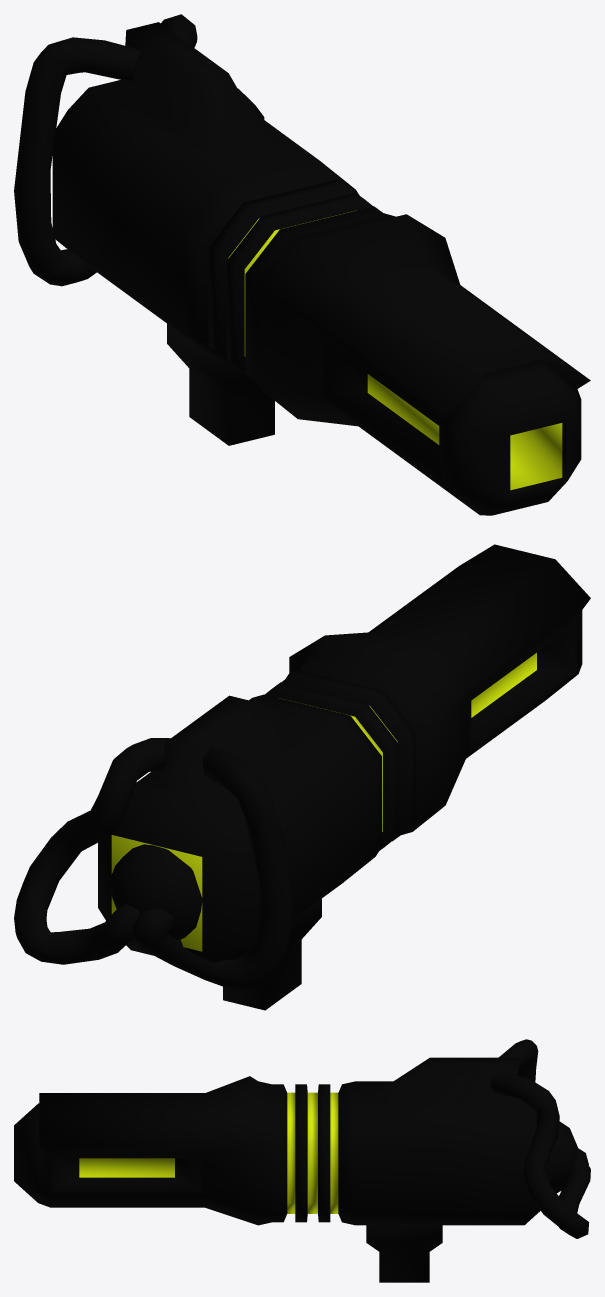
File: PulseCanon.fbx
3 renders of one model, top to bottom at view 1: azimuth 30°, elevation 25°; view 2: azimuth 150°, elevation 25°; view 3: azimuth 270°, elevation 25°, orthographic. The views are drawn at different scales.
Parts seen in each view (by area): view 1: Pulse Canon; view 2: Pulse Canon; view 3: Pulse Canon.
Boxes of the visible parts, x1=… form: Pulse Canon: x1=14, y1=14, x2=590, y2=515; Pulse Canon: x1=14, y1=544, x2=590, y2=1010; Pulse Canon: x1=14, y1=1039, x2=590, y2=1282.
Bounding box in the file's own units: 312 × 375 × 921.
